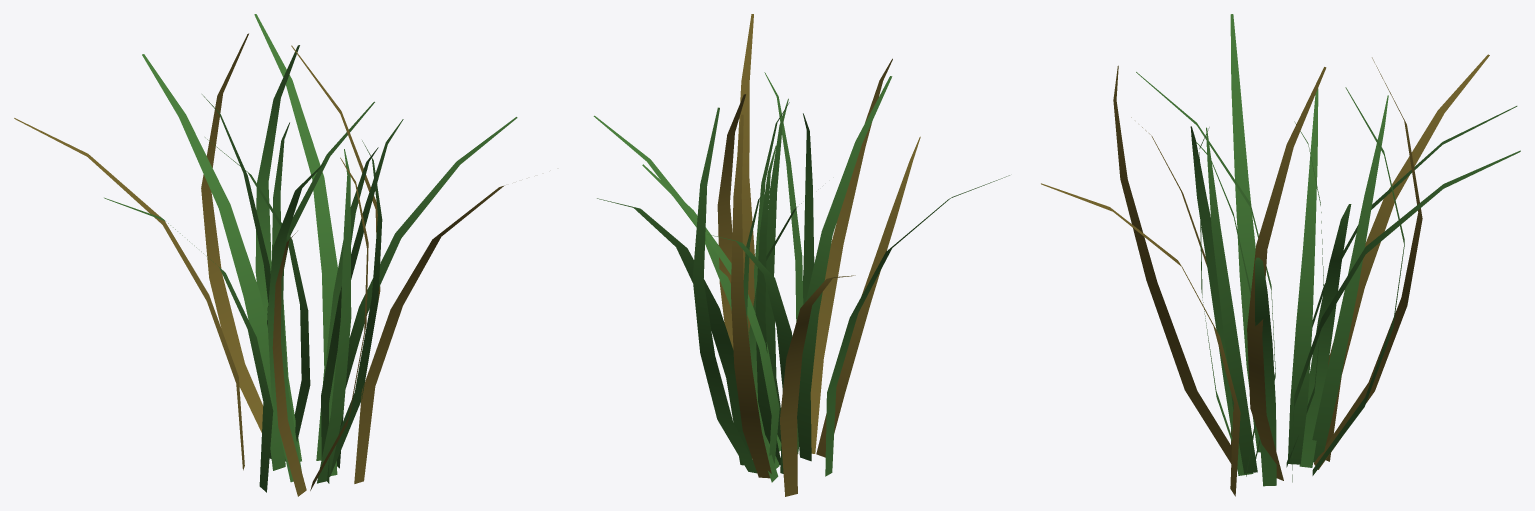
File: Leaves_002.fbx
3 views of the same model, side by side, from view 1: azimuth 30°, elevation 25°; view 2: azimuth 150°, elevation 25°; view 3: azimuth 270°, elevation 25° (orthographic). The views are drawn at different scales.
Parts seen in each view (by area): view 1: Leaves.002; view 2: Leaves.002; view 3: Leaves.002.
Boxes of the visible parts, bbox=[...] form: Leaves.002: bbox=[14, 14, 517, 496]; Leaves.002: bbox=[593, 14, 1009, 496]; Leaves.002: bbox=[1041, 14, 1520, 496].
Bounding box in the file's own units: 30.84 × 28.47 × 29.72.
